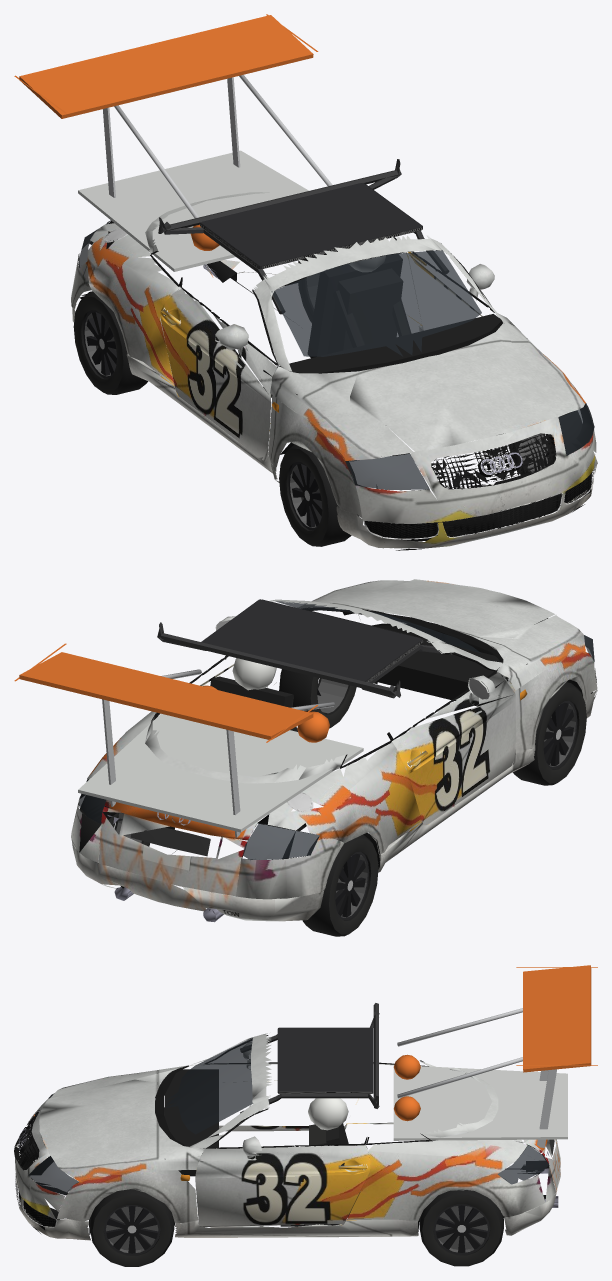
The picture shows the model from 3 angles, top to bottom: view 1: azimuth 30°, elevation 25°; view 2: azimuth 150°, elevation 25°; view 3: azimuth 270°, elevation 25°; orthographic projection. The views are drawn at different scales.
Visible parts, largest first — view 1: body, wheel_fr, wheel_rr, wheel_fl; view 2: body, wheel_rr, wheel_fr, wheel_fl, wheel_rl; view 3: body, wheel_fl, wheel_rl.
Part boxes in pixels (left/top/right/bottom): body: left=14, top=14, right=597, bottom=550; wheel_fr: left=279, top=444, right=359, bottom=546; wheel_rr: left=73, top=291, right=147, bottom=394; wheel_fl: left=508, top=410, right=582, bottom=474; body: left=14, top=579, right=597, bottom=922; wheel_rr: left=302, top=834, right=378, bottom=936; wheel_fr: left=513, top=682, right=586, bottom=785; wheel_fl: left=279, top=669, right=356, bottom=728; wheel_rl: left=79, top=795, right=150, bottom=863; body: left=14, top=965, right=597, bottom=1240; wheel_fl: left=90, top=1189, right=174, bottom=1266; wheel_rl: left=419, top=1190, right=503, bottom=1266.
Bounding box in the file's own units: 1.85 × 1.65 × 4.29.
2 materials, 1 textured.
